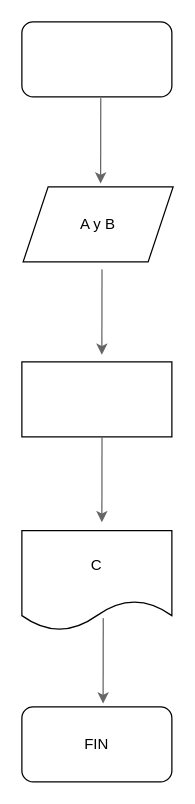
This 195x804 diagram has some shape labels left out. The shapes that lost their labels are listed below. From the top down, each one's box as (x1, y1, x2, y2) in pixels, then its label:
(21, 21, 172, 97): INICIO
(21, 361, 172, 437): C = (A+B)
